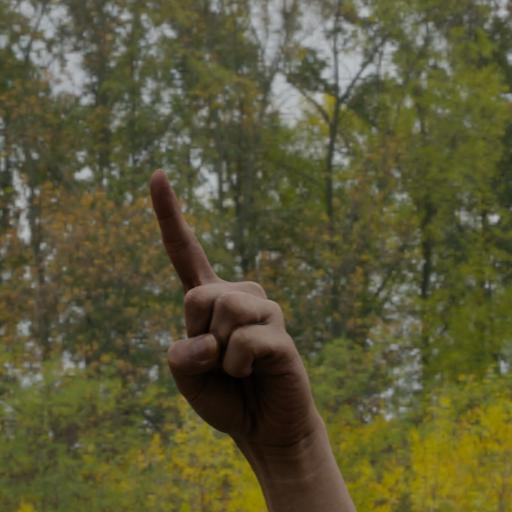Z: (121, 134, 325, 464)
